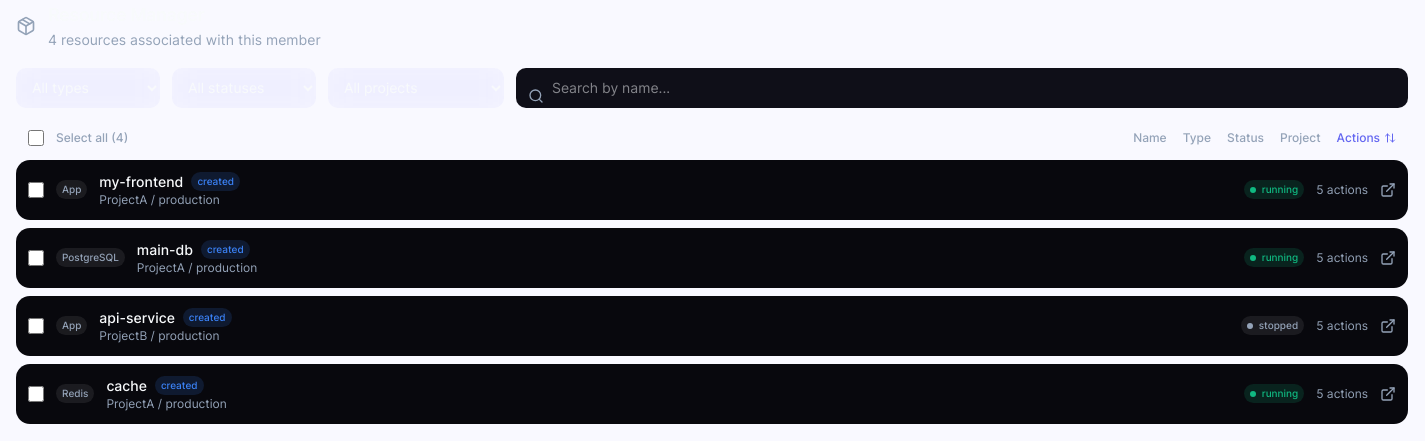
Scenario: ArchiveResourceManager › filters by search query
Type "api" into the field with placeholder "Search by name...". click: (962, 88)
box: [516, 68, 1408, 108]
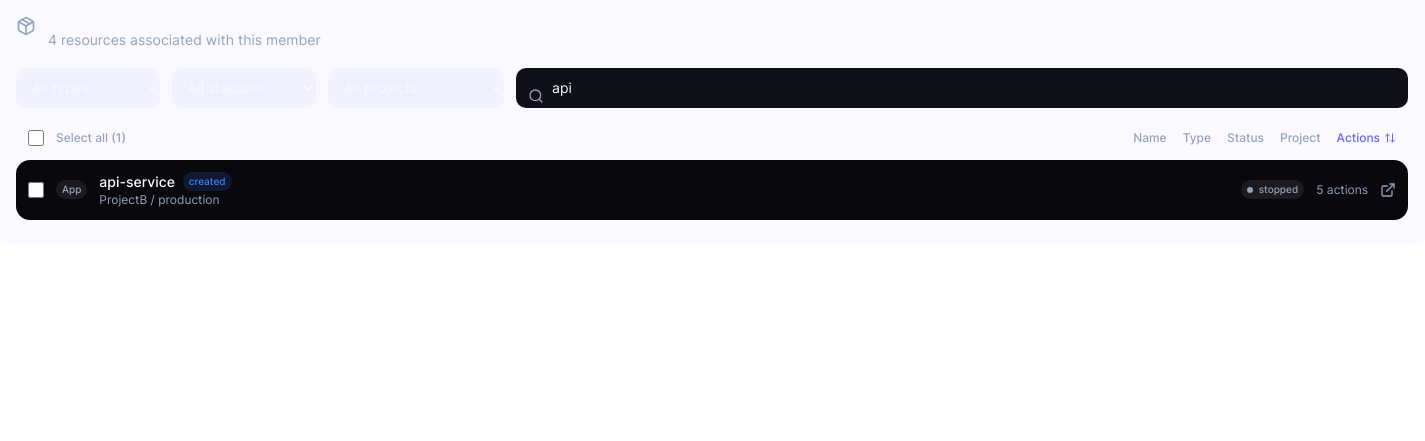
Expected: the link "api-service" is shown, [99, 172, 175, 192]
Now the link "my-frontend" is gone
Now the link "main-db" is gone
